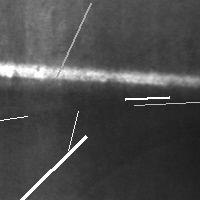scratches: (1, 61, 200, 89), (13, 131, 91, 200), (52, 0, 96, 82), (129, 96, 200, 110), (63, 106, 83, 155), (0, 111, 32, 135), (120, 92, 174, 104)
